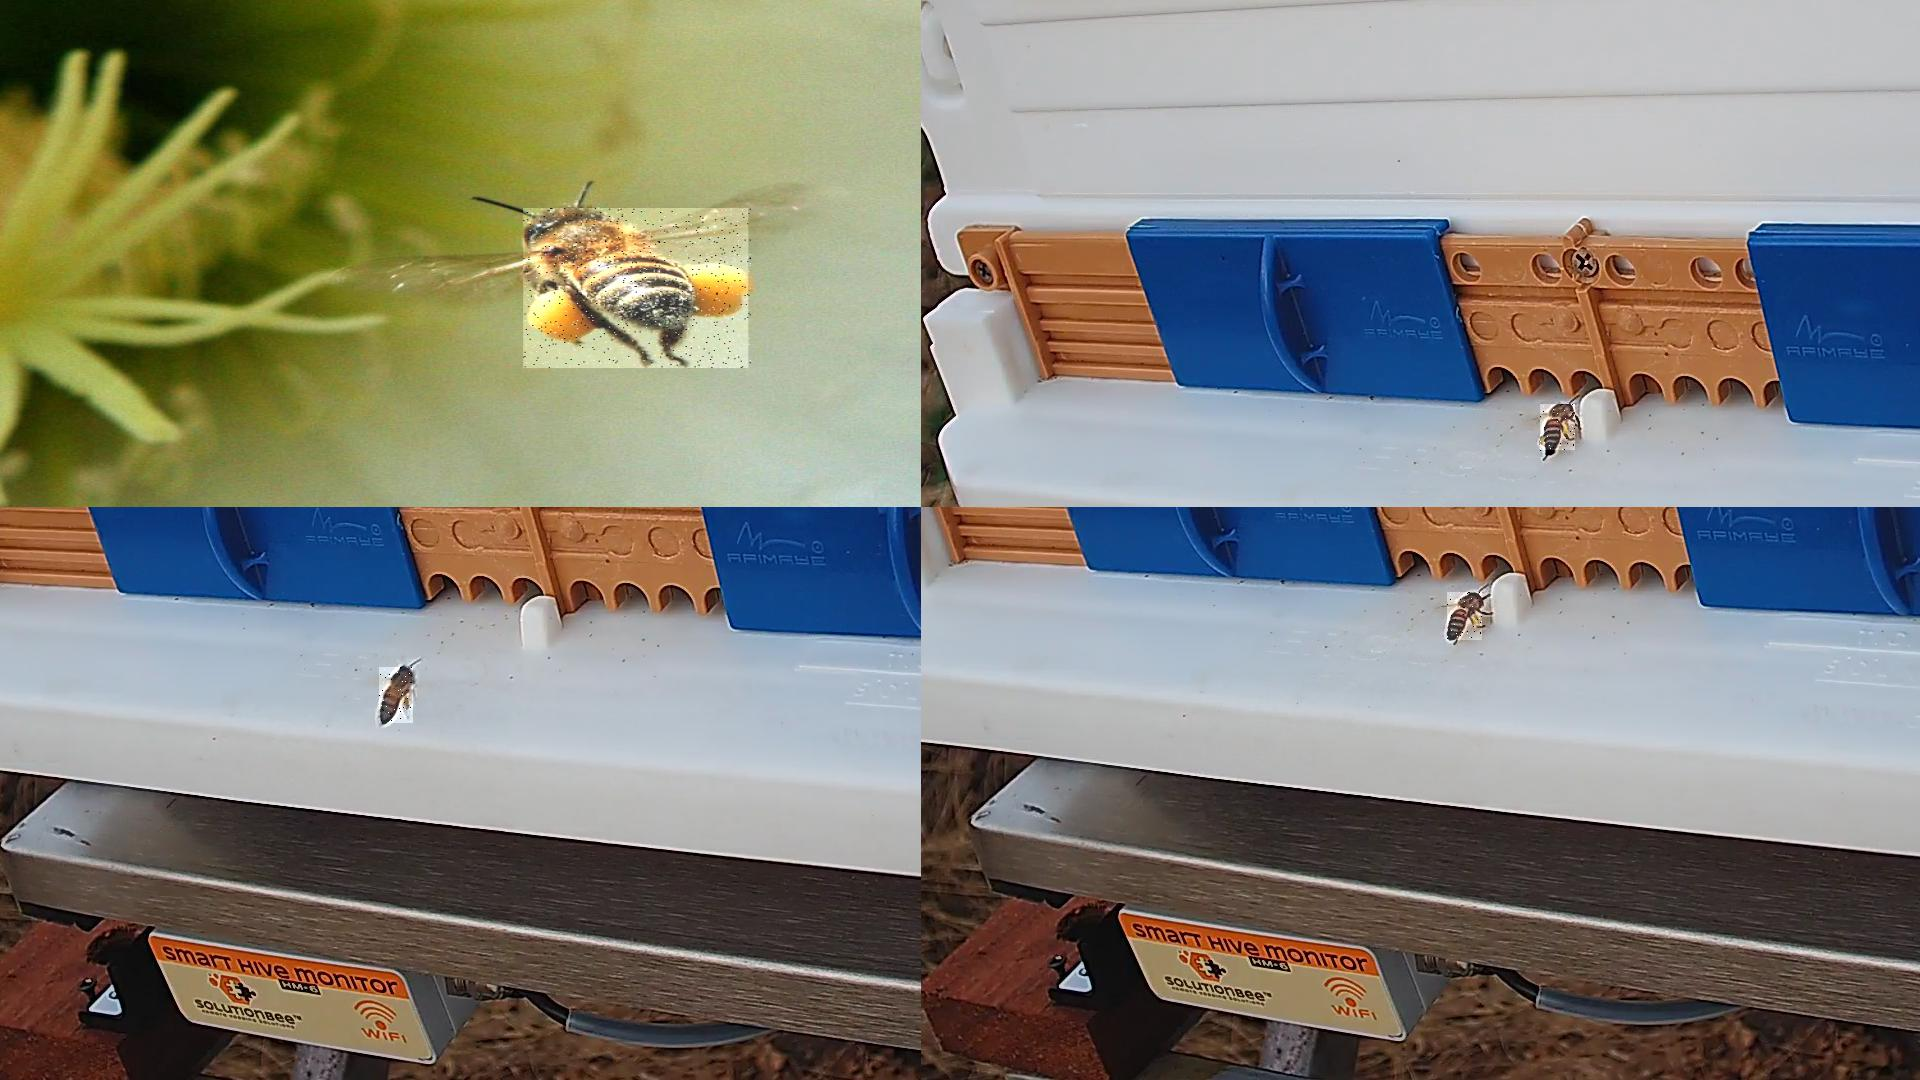pollenbee: (524, 208, 753, 369), (380, 667, 414, 724), (1447, 592, 1484, 641), (1540, 405, 1576, 454)
